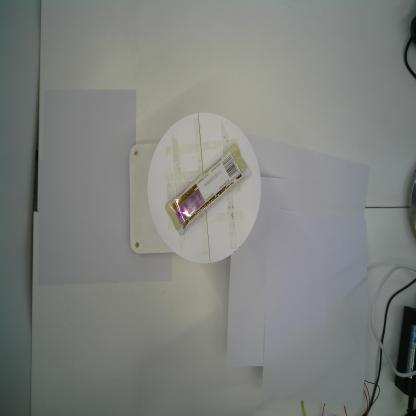Chocolate: (165, 142, 252, 237)
